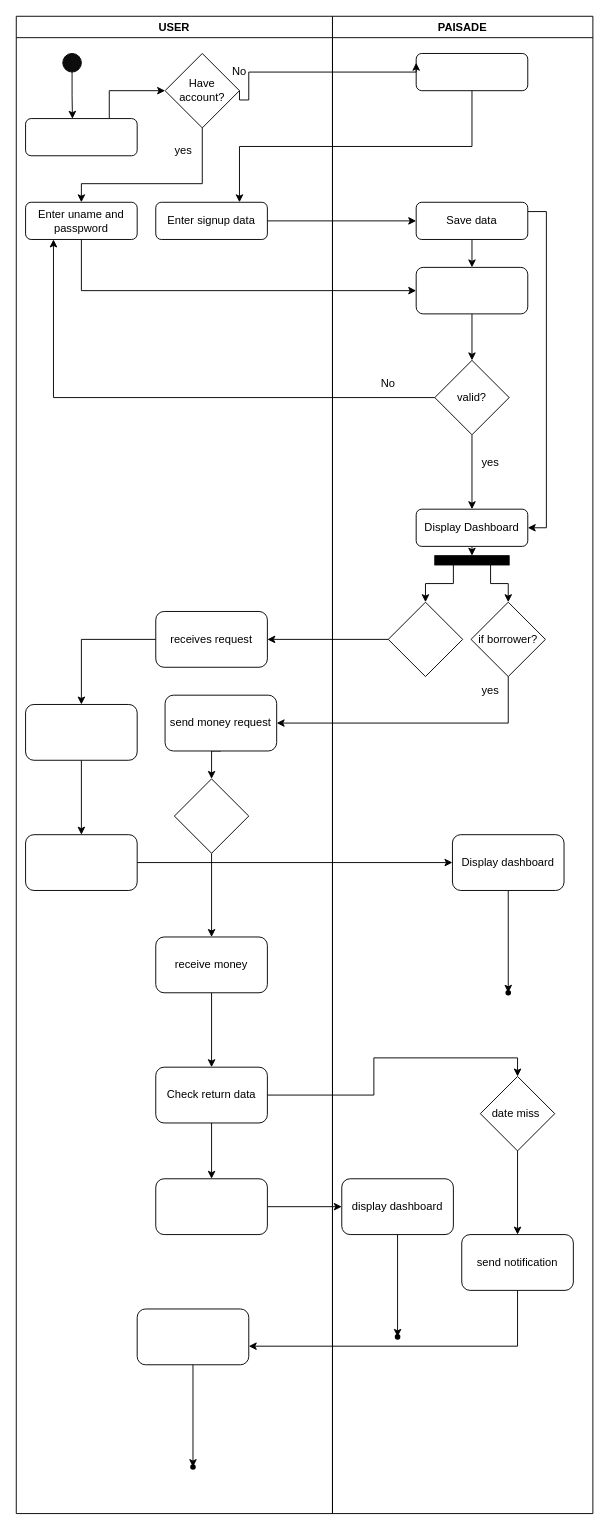
Image size: 609x1530. Some labels were removed from this diagram. Each missing label, with the centre of its shape:
"appprove request" goes at point 81,732.
"Create Account" goes at point 471,72.
"if lender?" goes at point 425,639.
"is approved" goes at point 211,815.
"Navigate to system" goes at point 81,137.
"receive notification" goes at point 192,1336.
"return money" goes at point 211,1206.
"send money to borrower" goes at point 81,862.
"Validation" goes at point 471,290.
